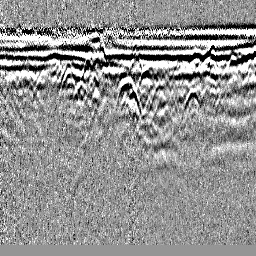cavity: (113, 75, 142, 116)
